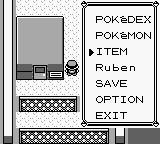main: (66, 60, 78, 76)
no-caminable: (15, 16, 64, 81), (3, 0, 14, 144), (18, 128, 109, 143), (18, 96, 76, 111), (128, 127, 159, 144), (115, 128, 125, 144)
puerta: (34, 65, 46, 79)
seleccionado: (86, 47, 128, 56)
texto: (82, 0, 158, 128)
